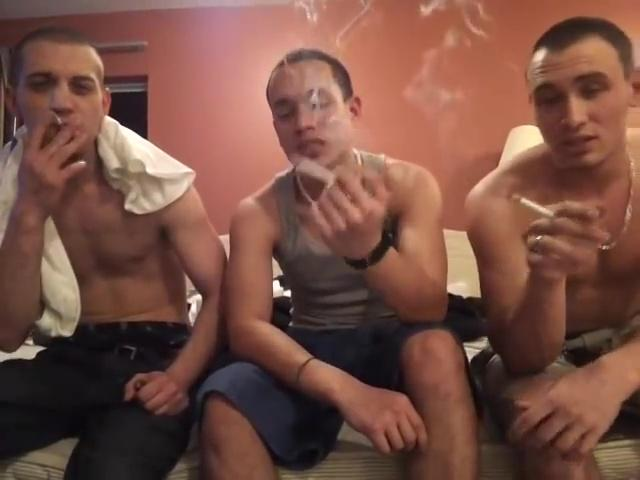cigarette: (511, 192, 557, 219), (49, 109, 66, 132)
